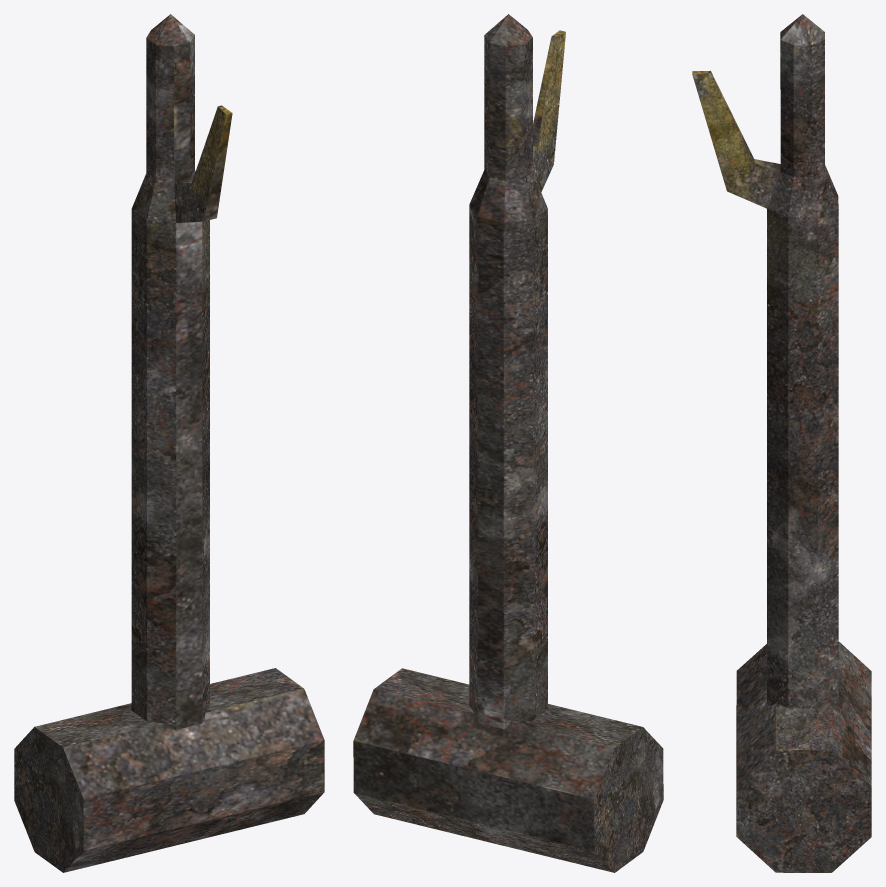
File: Lever.fbx
3 views of the same model, side by side, from view 1: azimuth 30°, elevation 25°; view 2: azimuth 150°, elevation 25°; view 3: azimuth 270°, elevation 25° (orthographic). The views are drawn at different scales.
Parts seen in each view (by area): view 1: Lever; view 2: Lever; view 3: Lever.
Boxes of the visible parts, x1,y1,x2,y2 form: Lever: [14, 14, 324, 872]; Lever: [353, 14, 663, 872]; Lever: [692, 14, 871, 872].
Size of the model in its own units: 20.61 by 66.92 by 13.59.
1 material, 1 textured.
